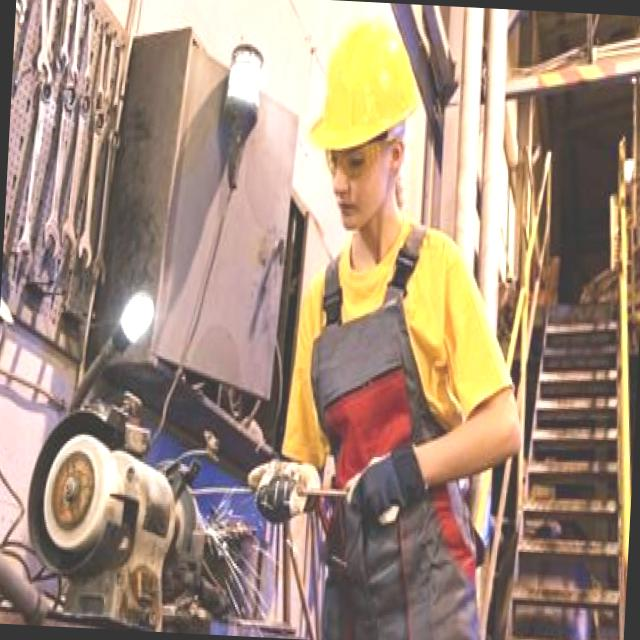goggles: (322, 114, 409, 188)
helmet: (306, 9, 433, 163)
no-vest: (271, 215, 515, 640)
